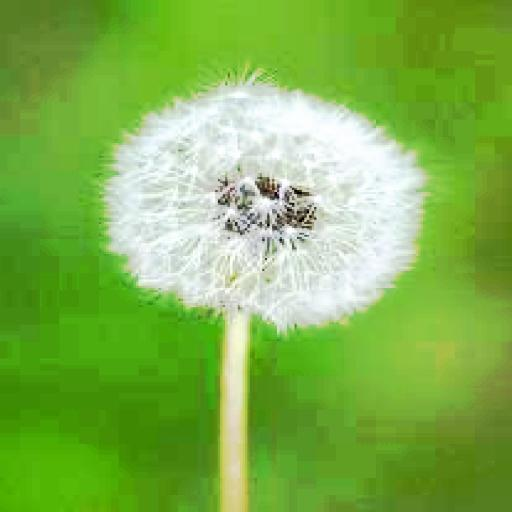dandelion: (106, 79, 428, 331)
